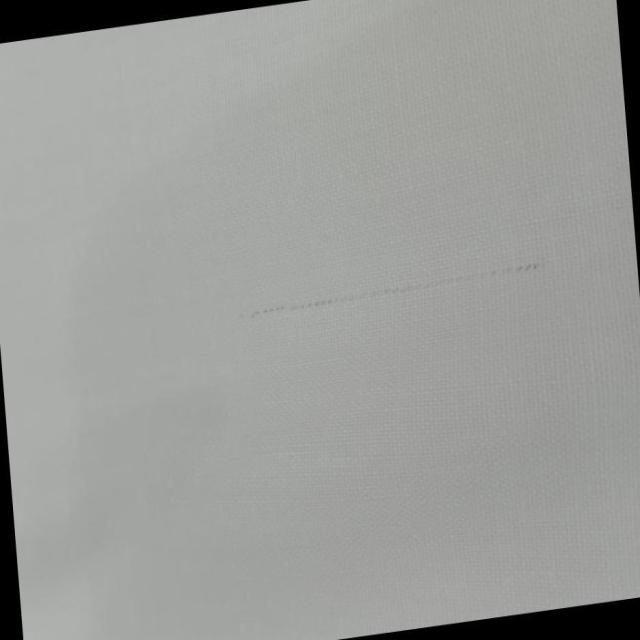contamination: (240, 250, 550, 327)
